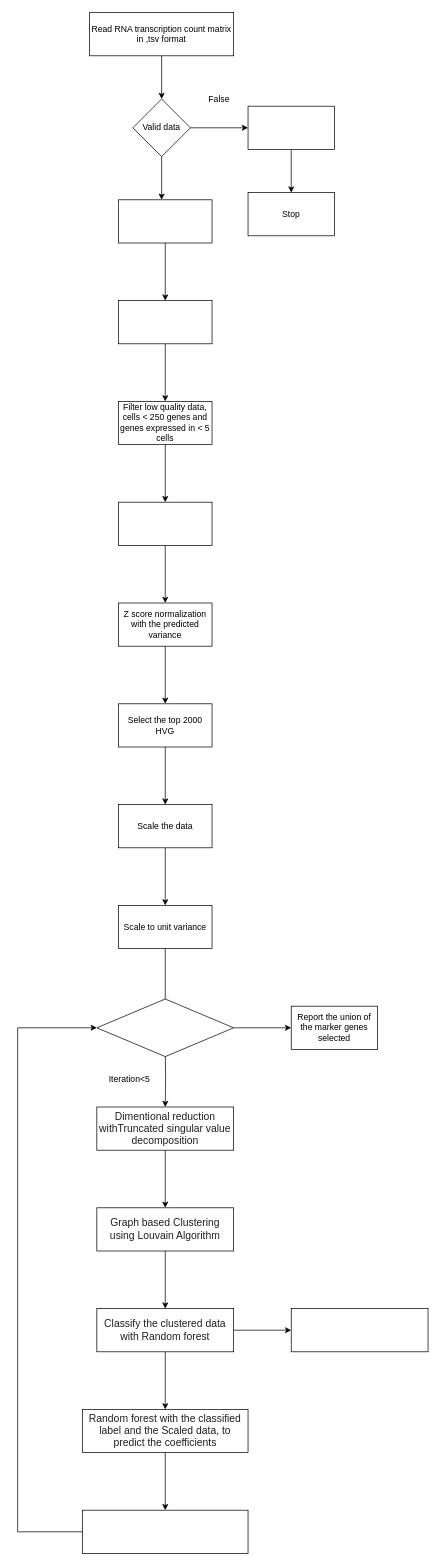
Some shapes in this 441 by 1566 pixel diagram are drawn without their labels. Each missing label, with the box of its shape:
5 fold Cross Validation,Data split into train and test set: (96, 998, 234, 1057)
Calculate accuracy: (291, 1308, 428, 1352)
Display Error Message: (247, 105, 334, 149)
Predict variance of gene as a function of mean using Loess: (118, 501, 212, 545)
Select top 20 features based on the predictor value: (82, 1509, 248, 1553)
Split the cell type label from the provided annotation: (118, 300, 212, 344)
Transpose the matrix with genes as columns and cells as rows: (118, 199, 212, 243)
